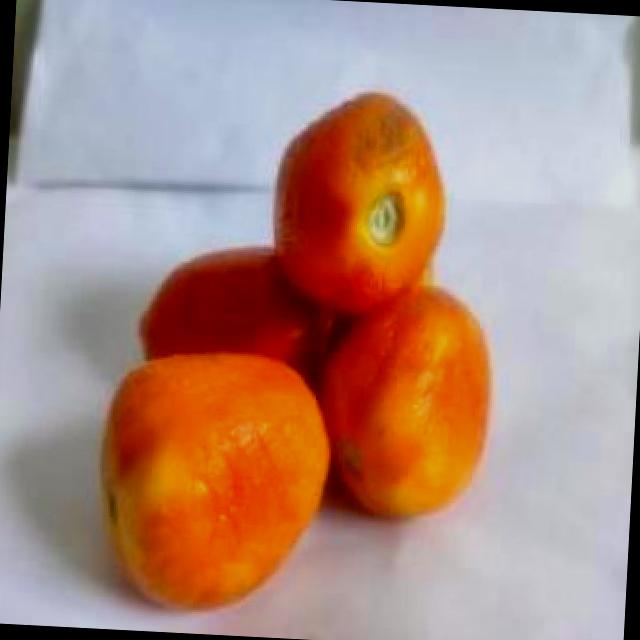Rotten_Tomato: (80, 338, 344, 633), (255, 75, 460, 347), (301, 276, 498, 535), (128, 228, 350, 406)
